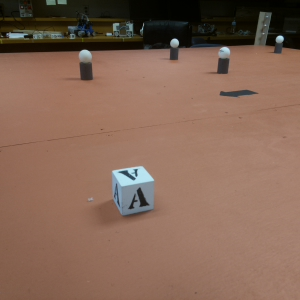blockA: (109, 161, 156, 213)
corner: (256, 12, 270, 50)
obstacle: (77, 49, 95, 80), (216, 46, 232, 78), (168, 36, 182, 61), (273, 35, 284, 55)
start: (217, 85, 258, 107)
